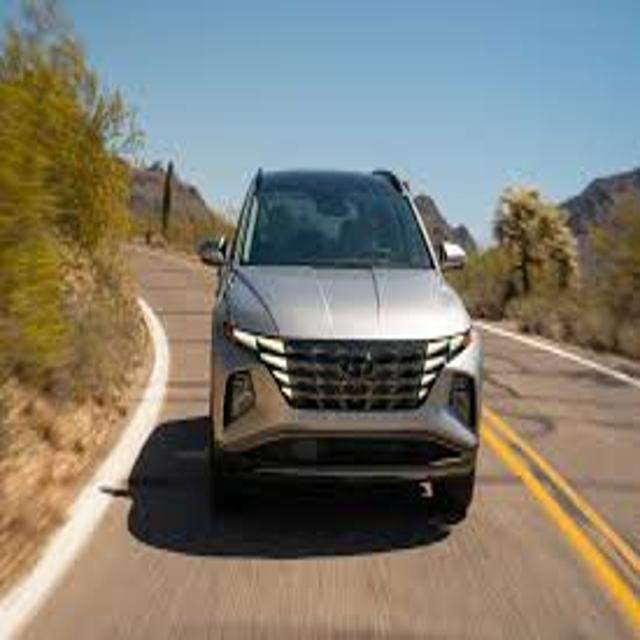car: (199, 170, 481, 503)
